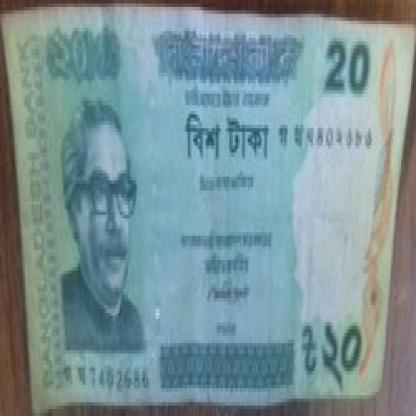Twenty: (176, 107, 274, 170), (296, 315, 368, 385), (48, 31, 122, 83), (323, 38, 373, 104)
